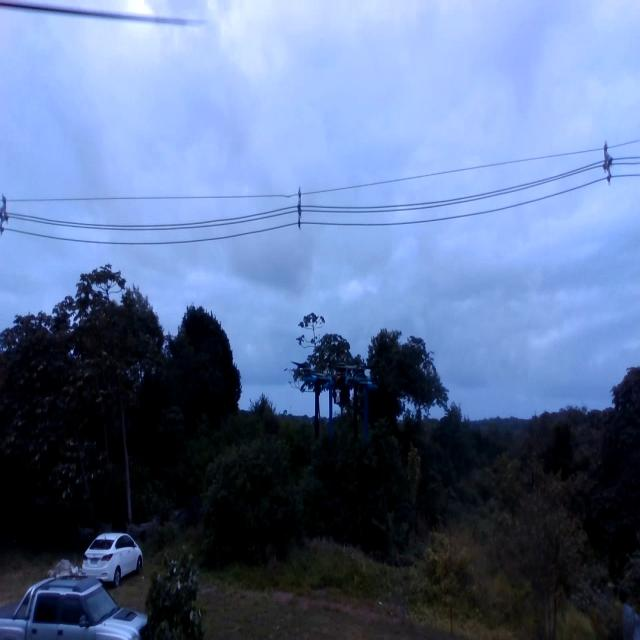-uav-: (294, 350, 384, 446)
